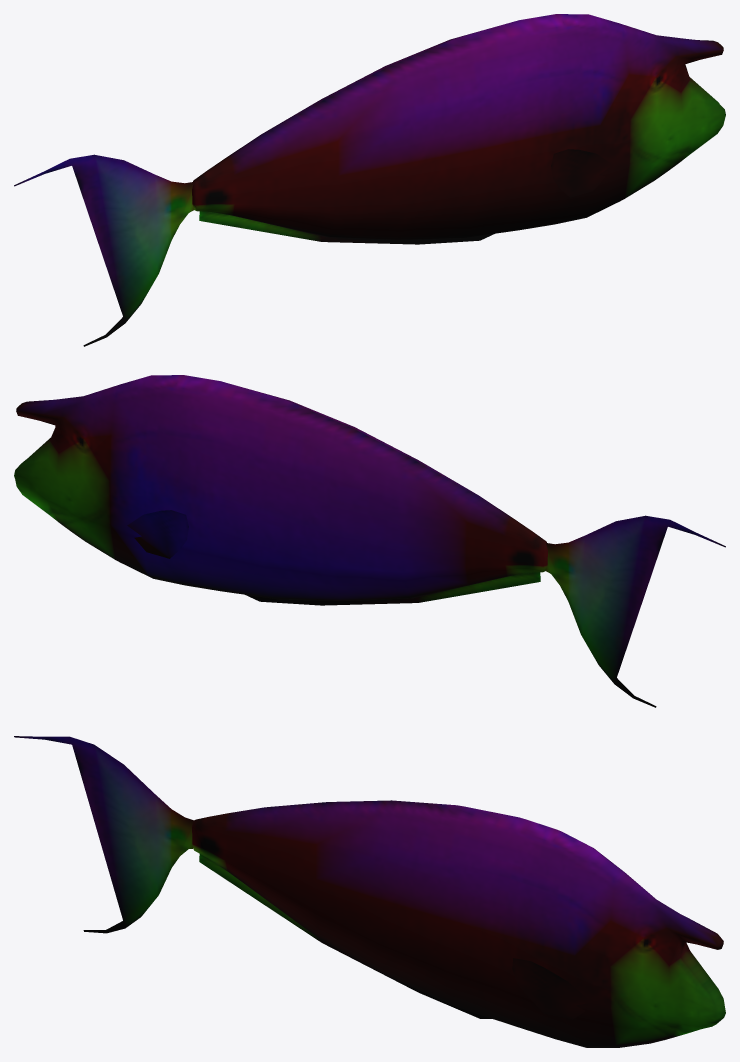
File: naso_unicornfish.glb
The picture shows the model from 3 angles, top to bottom: view 1: azimuth 30°, elevation 25°; view 2: azimuth 150°, elevation 25°; view 3: azimuth 330°, elevation 25°; orthographic projection.
Parts seen in each view (by area): view 1: NasoUnicornfish; view 2: NasoUnicornfish; view 3: NasoUnicornfish.
Part boxes in pixels (x1,y1,x2,y2): NasoUnicornfish: (14, 14, 725, 346); NasoUnicornfish: (14, 375, 725, 707); NasoUnicornfish: (14, 736, 725, 1047).
Bounding box in the file's own units: 1 × 0.2961 × 0.099.
Materials: 1 (1 with a texture image).
